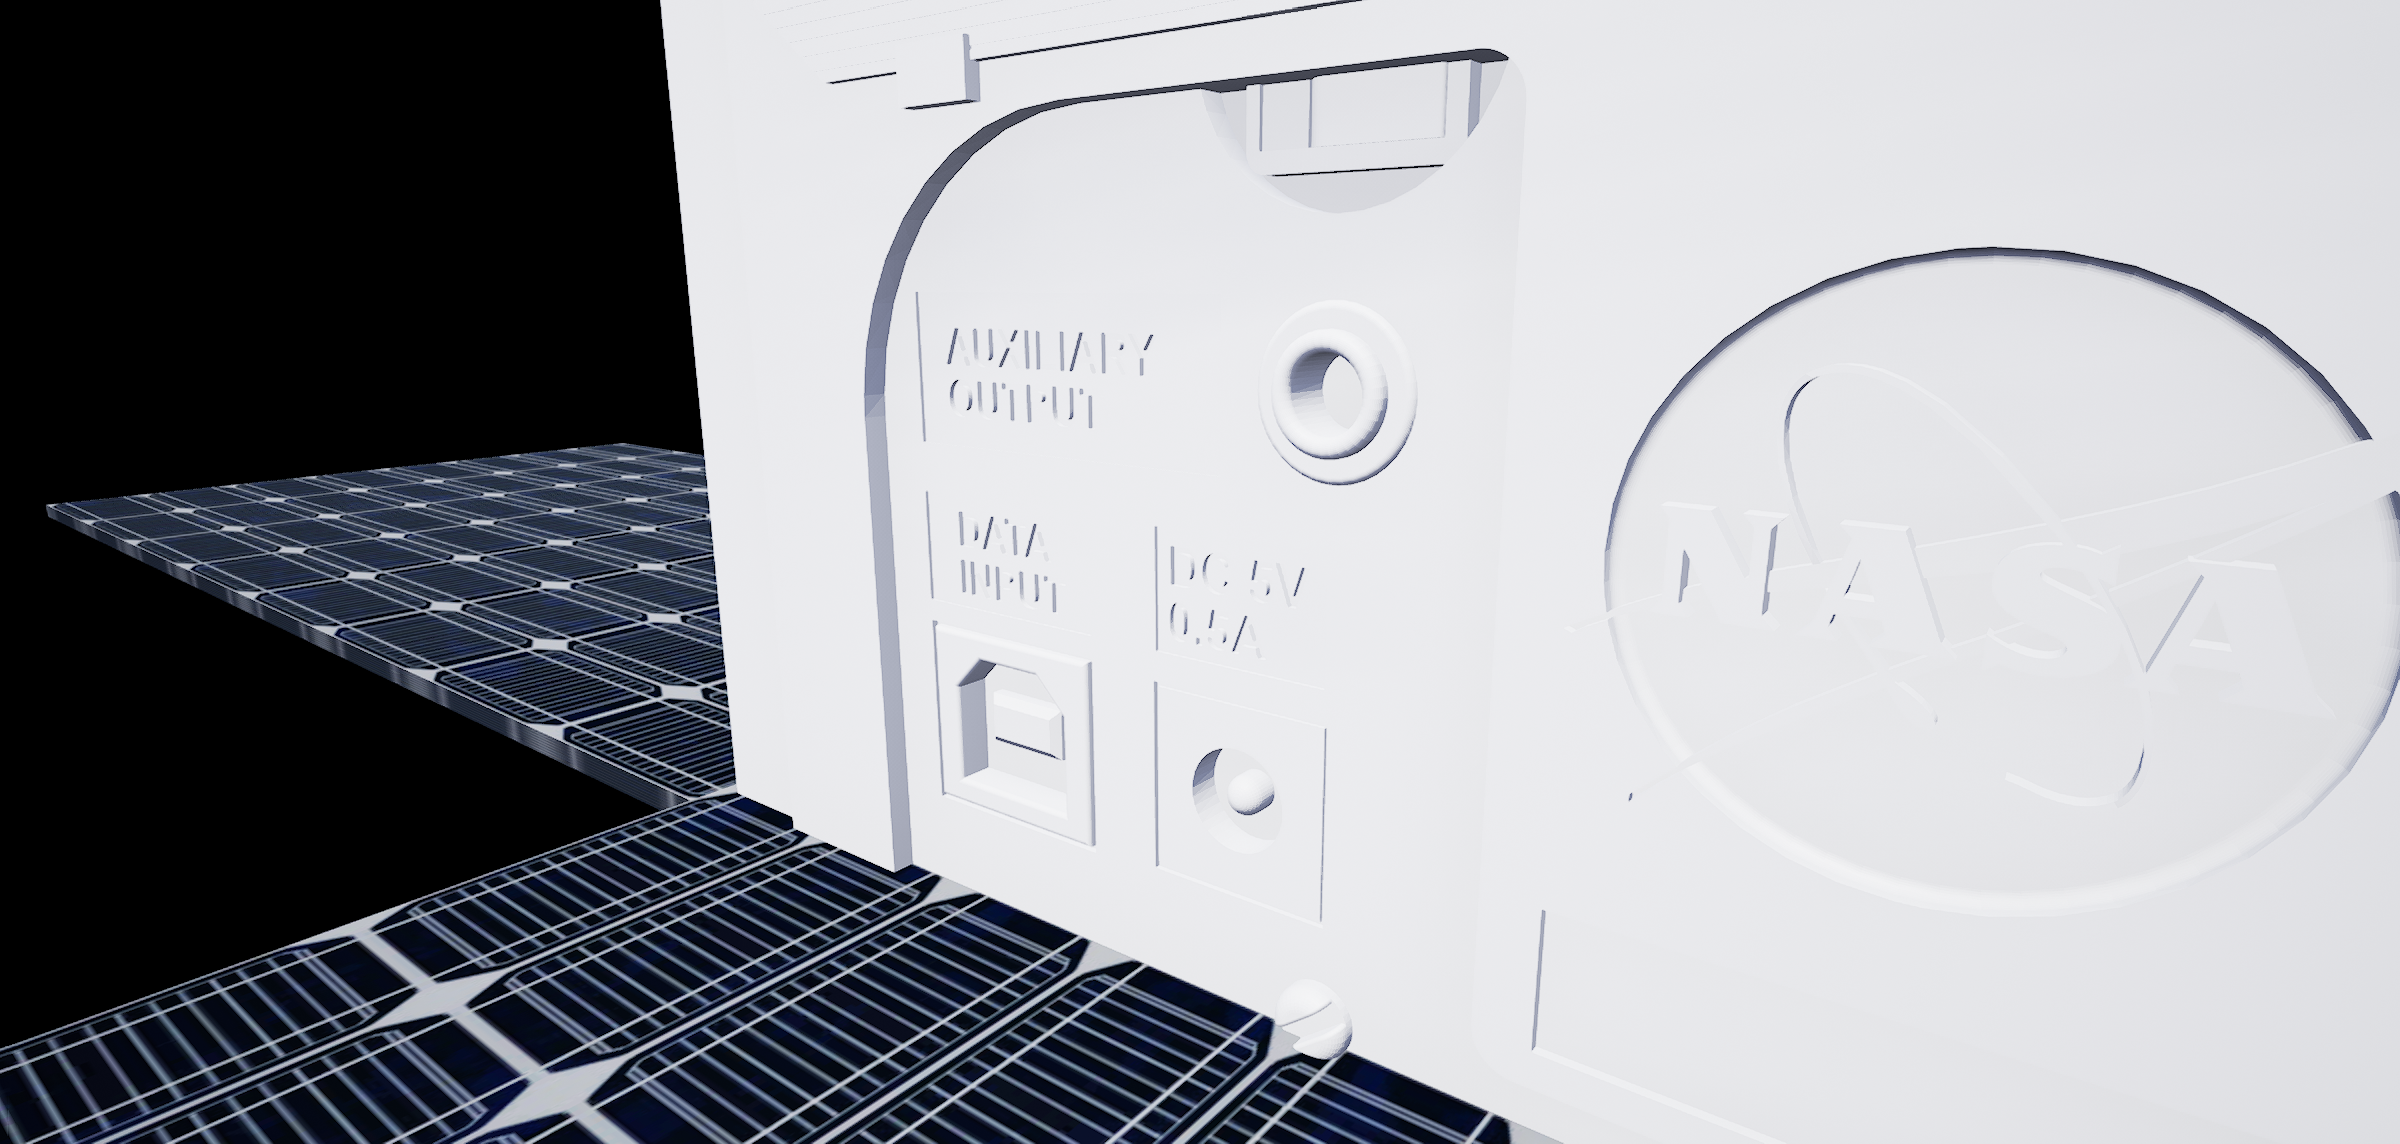aux: (1251, 306, 1430, 492)
dc: (1166, 729, 1299, 858)
usb: (954, 651, 1081, 832)
